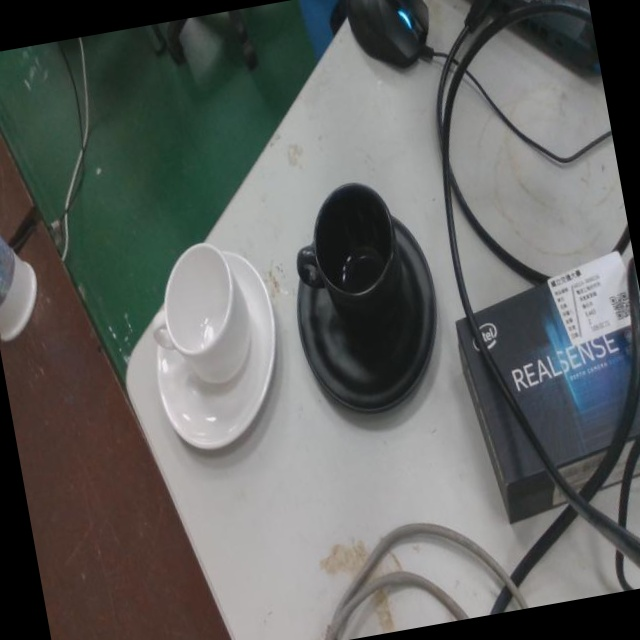black: (293, 179, 439, 419)
white: (151, 239, 281, 453)
